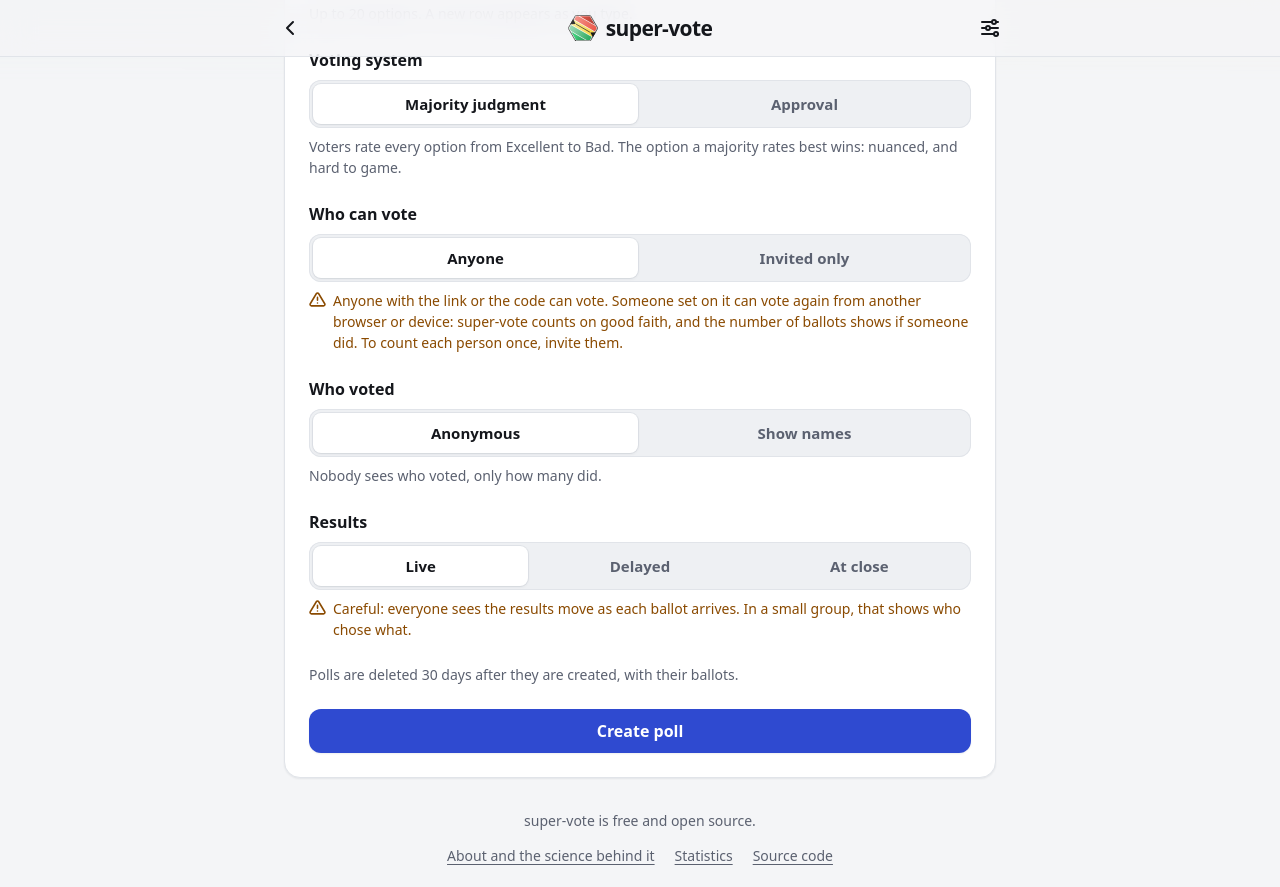
the app › shows the statistics from every page, once their page has loaded
(page scrolled)
Step 1. Click the link "Statistics" → (704, 856), box [675,846,733,865]
(page scrolled)
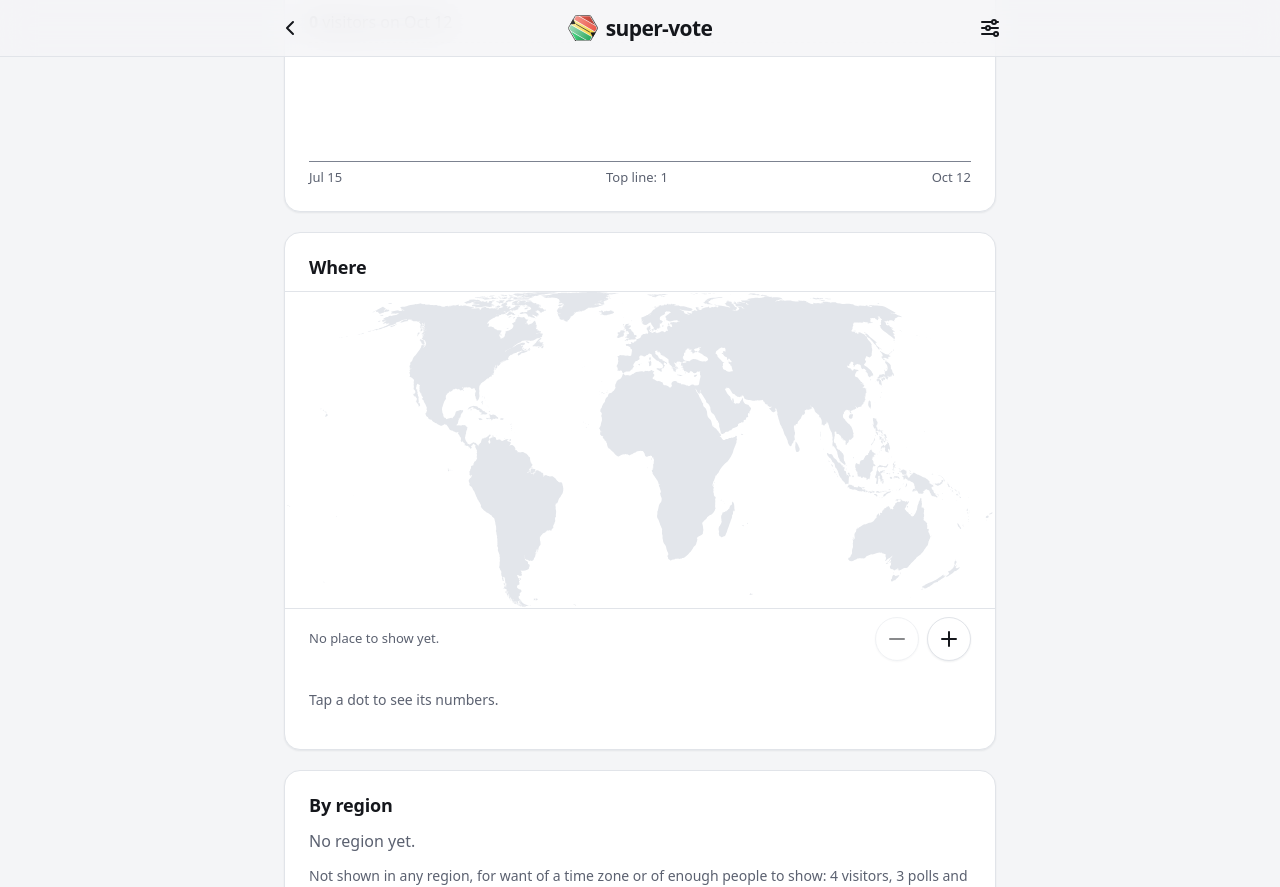
Expected: the picture named "World map" is shown, [285,291,995,609]
